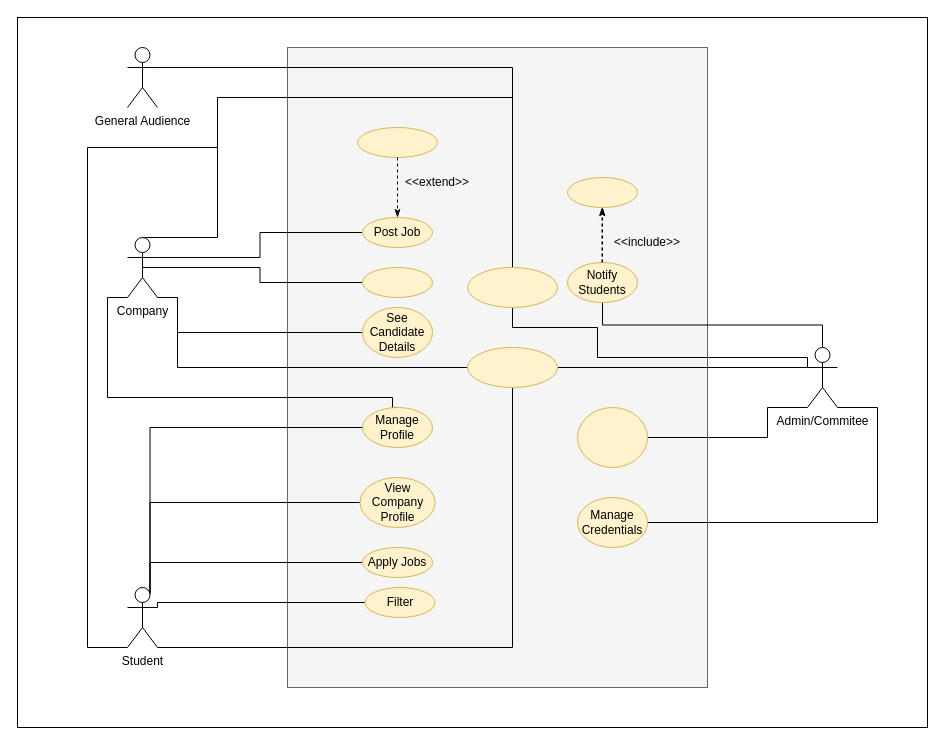
The diagram is 945 pixels wide and 745 high, and some of its shapes have lost their labels. The shapes that lost their labels are listed below. From the top down, each one's centre as x and y in pixels, then its label:
At pixel 397 142: "Set Criteria".
At pixel 602 192: "Send email".
At pixel 397 282: "Schedule".
At pixel 512 287: "Placement Statistics".
At pixel 512 367: "Login/Logout".
At pixel 612 437: "Manage User and Jobs".
